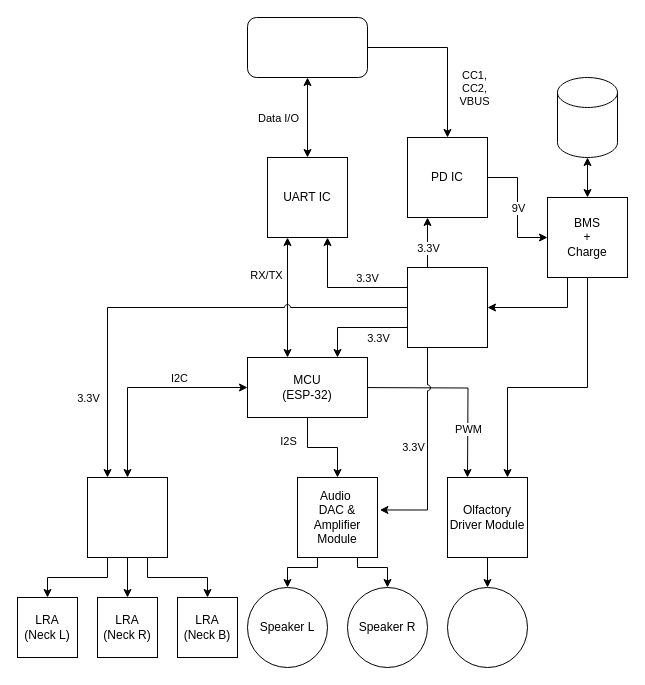
This 645x685 diagram has some shape labels left out. Here are the shapes that lost their labels. From the top down, the box of each, then its label:
(246, 16, 368, 78): USB-C
(556, 76, 618, 158): 2s Li Battery
(406, 266, 488, 348): DC/DC Buck Converter @3.3V
(86, 476, 168, 558): Haptic Driver Module
(446, 586, 528, 668): Piezo Electric Mesh Atomizer
